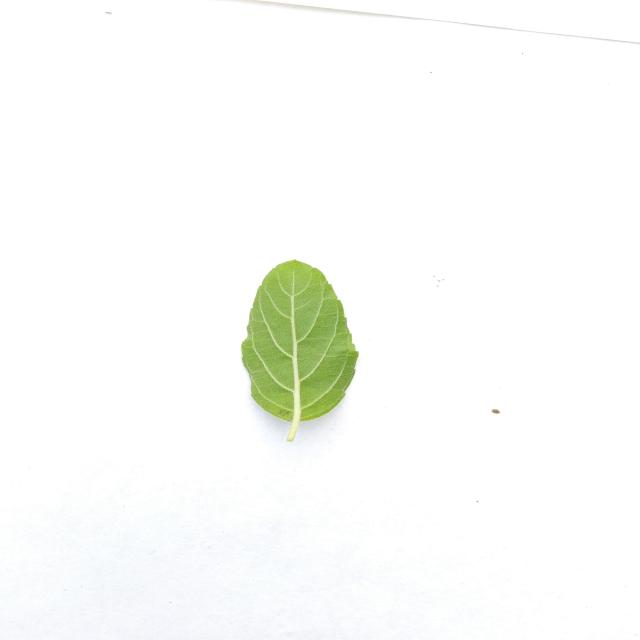defectedtulsi: (243, 289, 358, 441)
tulsi: (242, 260, 358, 441)
